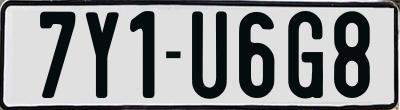1: (127, 9, 154, 98)
6: (236, 10, 277, 102)
7: (39, 11, 76, 103)
8: (331, 8, 367, 95)
G: (286, 8, 327, 96)
U: (191, 11, 229, 103)
Y: (83, 10, 116, 99)
